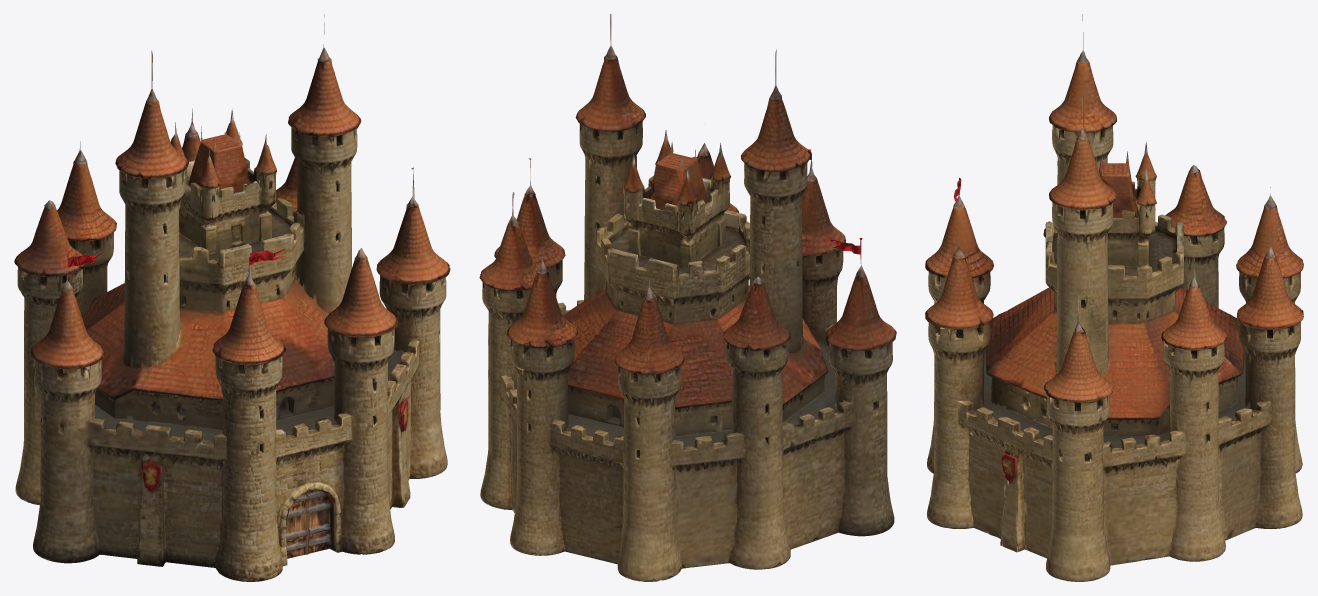
The model's file is castillo_tripo.glb.
3 renders of one model, left to right at view 1: azimuth 30°, elevation 25°; view 2: azimuth 150°, elevation 25°; view 3: azimuth 270°, elevation 25°, orthographic. The views are drawn at different scales.
Visible parts, largest first — view 1: tripo_node_8ecdb5fd-7332-40b0-907b-07acc272fe5d; view 2: tripo_node_8ecdb5fd-7332-40b0-907b-07acc272fe5d; view 3: tripo_node_8ecdb5fd-7332-40b0-907b-07acc272fe5d.
Part boxes in pixels (x1,y1,x2,y2): tripo_node_8ecdb5fd-7332-40b0-907b-07acc272fe5d: (14, 14, 450, 581); tripo_node_8ecdb5fd-7332-40b0-907b-07acc272fe5d: (479, 14, 896, 581); tripo_node_8ecdb5fd-7332-40b0-907b-07acc272fe5d: (925, 14, 1303, 581).
Size of the model in its own units: 0.8768 by 0.9757 by 0.7639.
Materials: 1 (1 with a texture image).
